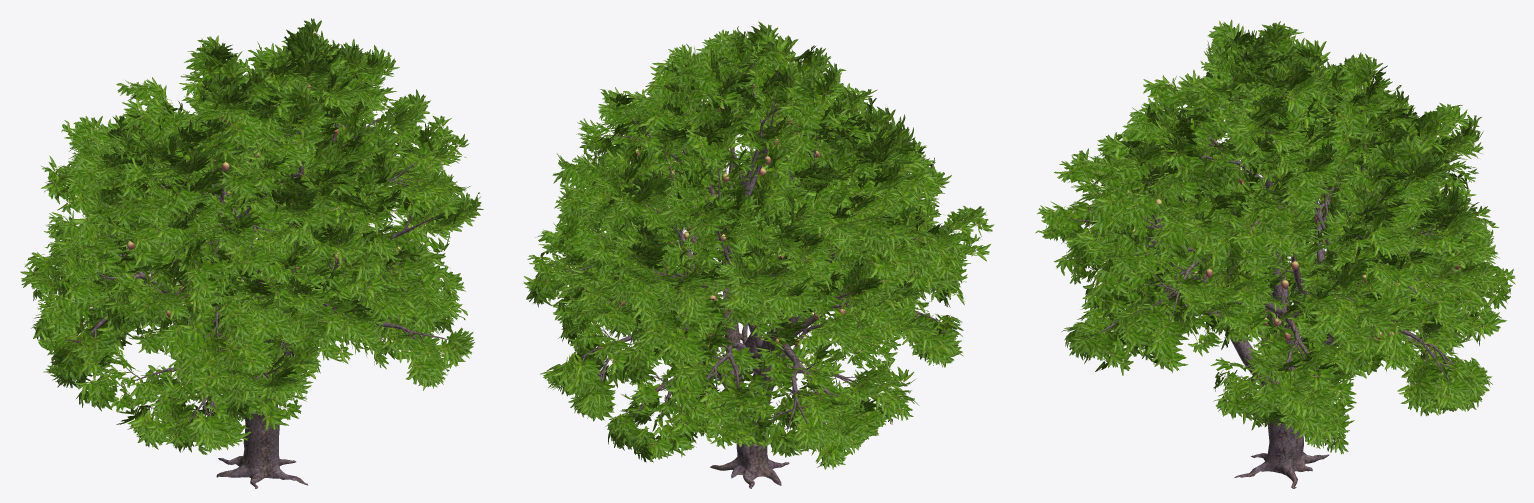
File: mango_tree.glb
The picture shows the model from 3 angles, left to right: view 1: azimuth 30°, elevation 25°; view 2: azimuth 150°, elevation 25°; view 3: azimuth 270°, elevation 25°; orthographic projection. The views are drawn at different scales.
Visible parts, largest first — view 1: leaves, tree; view 2: leaves, tree; view 3: leaves, tree.
Part boxes in pixels (x1,y1,x2,y2): leaves: (20, 18, 483, 454); tree: (45, 64, 449, 488); leaves: (523, 21, 994, 469); tree: (550, 54, 963, 488); leaves: (1035, 19, 1515, 454); tree: (1069, 42, 1493, 488).
Bounding box in the file's own units: 6.69 × 6.86 × 6.76.
3 materials, 3 textured.
